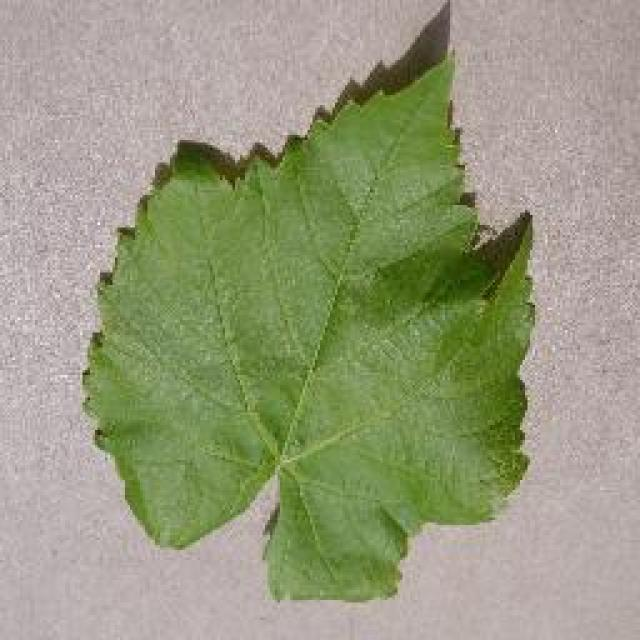Grape___healthy: (77, 45, 540, 606)
